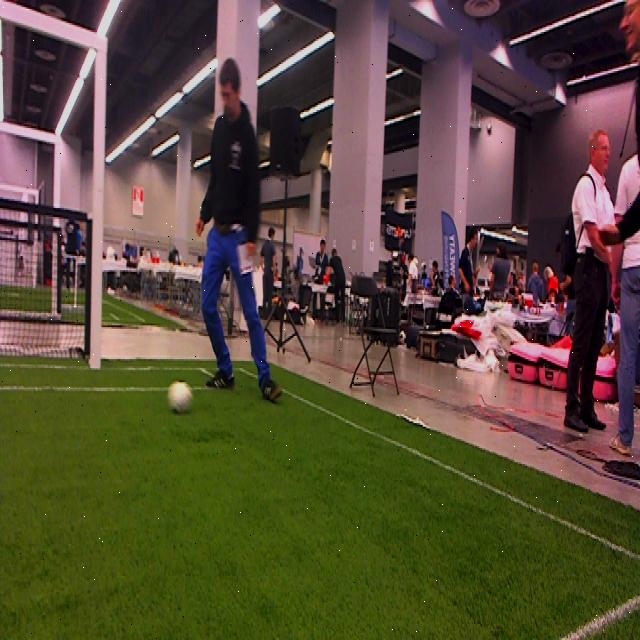ball: (164, 379, 197, 421)
goalpost: (89, 28, 109, 370)
